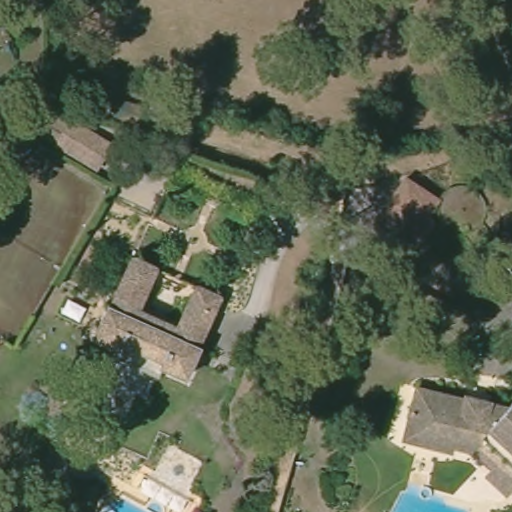pool: (385, 488, 458, 512)
